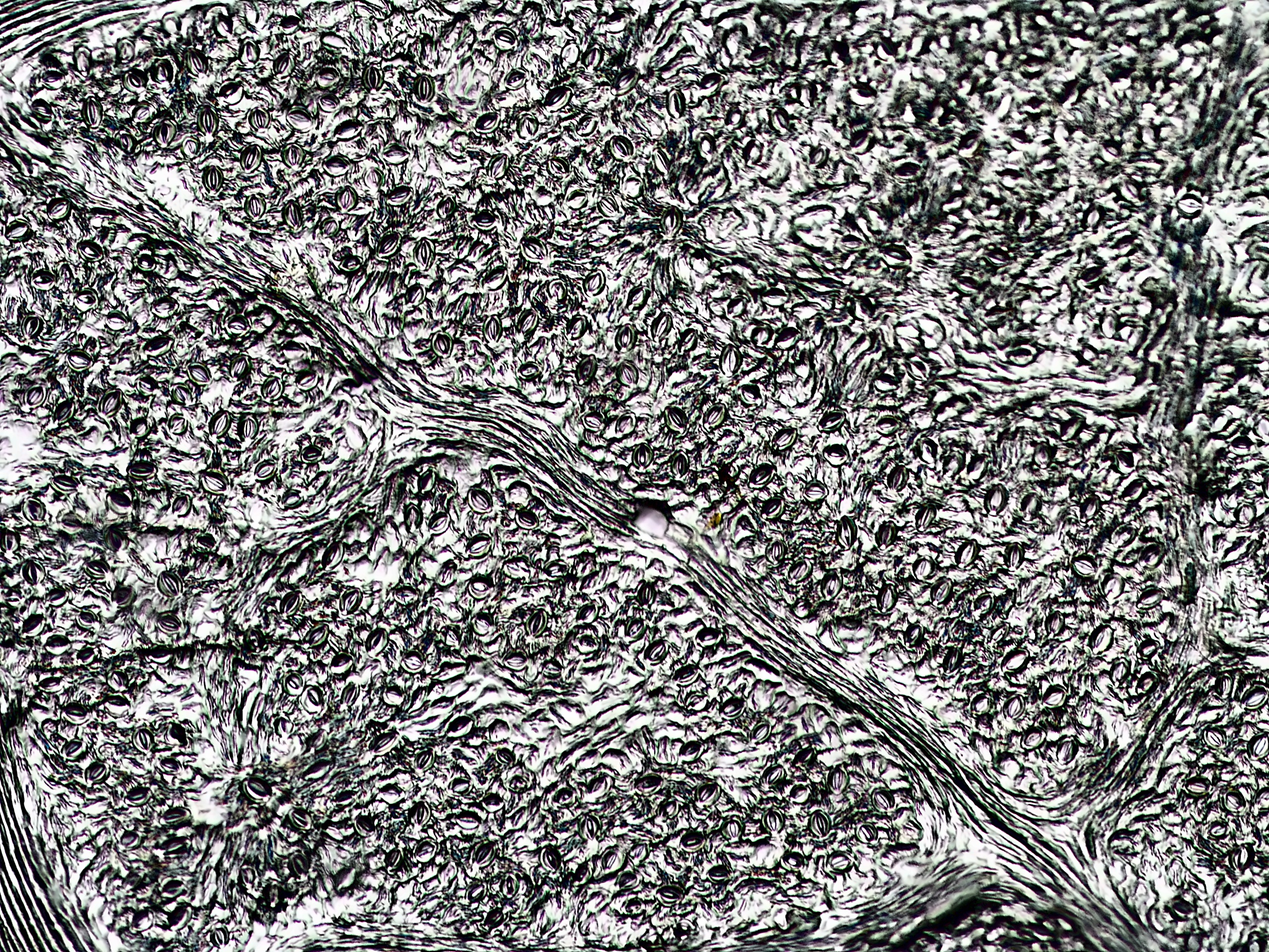stomata: (243, 777, 274, 804), (199, 469, 230, 496), (367, 730, 399, 755), (880, 245, 913, 269), (837, 514, 859, 550), (1090, 624, 1115, 655), (322, 539, 345, 572), (81, 95, 102, 131), (469, 839, 496, 866), (612, 66, 637, 95), (154, 119, 178, 149), (821, 568, 844, 599), (287, 105, 314, 131), (157, 569, 183, 596), (217, 79, 245, 104), (544, 86, 572, 111), (412, 837, 440, 862), (524, 609, 549, 637), (75, 239, 104, 263), (99, 388, 122, 418), (340, 586, 363, 616), (366, 626, 388, 657), (609, 134, 635, 160), (905, 355, 931, 381), (771, 426, 798, 451), (1240, 685, 1267, 710), (322, 154, 350, 178), (615, 323, 636, 355), (1176, 193, 1204, 217), (207, 408, 231, 436), (146, 645, 178, 666), (444, 715, 472, 739), (956, 538, 979, 567), (1020, 491, 1043, 520), (38, 71, 71, 91), (414, 238, 435, 269), (987, 484, 1008, 515), (604, 9, 630, 34), (377, 232, 402, 258), (955, 272, 981, 297), (467, 487, 492, 513), (873, 522, 897, 549), (1100, 572, 1124, 599), (871, 787, 895, 814), (650, 312, 673, 340), (1098, 310, 1121, 338), (304, 758, 332, 781), (720, 344, 740, 376), (1082, 201, 1104, 230), (241, 144, 262, 174), (1044, 609, 1065, 639), (1064, 28, 1094, 49), (278, 592, 303, 617), (468, 575, 494, 599), (282, 142, 305, 169), (432, 330, 455, 357), (803, 480, 830, 503), (656, 883, 683, 906), (808, 810, 831, 837), (107, 489, 134, 512), (464, 533, 491, 556), (1006, 343, 1034, 365), (888, 464, 910, 492), (1230, 843, 1252, 871), (363, 64, 384, 93), (931, 576, 952, 605), (143, 336, 172, 357), (577, 354, 596, 386), (205, 164, 225, 194), (283, 199, 303, 229), (521, 238, 546, 262), (1136, 588, 1166, 608), (1060, 416, 1084, 441), (23, 614, 48, 638), (245, 624, 265, 654), (582, 270, 605, 296), (665, 406, 688, 432), (749, 465, 775, 488), (1013, 205, 1036, 231), (22, 497, 45, 523), (104, 527, 127, 553), (915, 505, 937, 532), (185, 363, 212, 385), (158, 614, 185, 636), (678, 740, 705, 762), (73, 47, 94, 75), (1248, 733, 1269, 761), (413, 76, 433, 105), (828, 765, 848, 794), (271, 53, 295, 77), (574, 113, 598, 137), (786, 558, 810, 582), (600, 847, 624, 871), (631, 443, 654, 468), (19, 313, 42, 338), (68, 349, 93, 372), (22, 385, 47, 408), (23, 558, 46, 583), (166, 903, 189, 928), (760, 810, 783, 835), (304, 623, 329, 646), (403, 650, 426, 675), (335, 185, 357, 211), (615, 361, 637, 387), (848, 83, 874, 105), (614, 870, 640, 892), (694, 782, 720, 804), (504, 556, 530, 578), (187, 46, 206, 76), (662, 205, 681, 235), (879, 583, 898, 613), (667, 89, 687, 117), (817, 413, 845, 433), (1058, 737, 1078, 765), (1111, 657, 1131, 685), (1183, 776, 1211, 796), (124, 786, 152, 806), (634, 774, 662, 794), (199, 105, 217, 136), (150, 58, 173, 82), (699, 72, 723, 95), (1071, 555, 1095, 578), (1141, 542, 1164, 566), (1121, 479, 1145, 502), (913, 556, 937, 579), (971, 591, 994, 615), (1122, 178, 1145, 202), (32, 268, 55, 292), (227, 314, 251, 337), (720, 696, 744, 719), (893, 161, 922, 180), (1005, 541, 1024, 570), (244, 193, 266, 218), (519, 310, 541, 335), (703, 403, 725, 428), (1004, 648, 1026, 673), (6, 220, 31, 242), (52, 399, 74, 424), (254, 460, 279, 482), (673, 663, 698, 685), (958, 133, 984, 154), (64, 702, 90, 723), (105, 695, 131, 716), (303, 687, 324, 713), (826, 852, 852, 873), (262, 375, 283, 401), (329, 653, 355, 674), (342, 680, 363, 706), (942, 646, 962, 673), (151, 297, 178, 317), (160, 807, 190, 825), (240, 416, 260, 443), (126, 461, 156, 479), (83, 558, 111, 577), (418, 466, 437, 494), (849, 130, 872, 153), (677, 290, 700, 313), (74, 288, 97, 311), (761, 764, 784, 787), (486, 153, 508, 177), (484, 267, 508, 289), (824, 445, 848, 467), (87, 761, 109, 785), (165, 722, 187, 746), (130, 908, 152, 932), (1003, 695, 1024, 720), (1042, 687, 1067, 708), (75, 608, 100, 629), (630, 840, 651, 865), (300, 445, 325, 466), (1170, 900, 1199, 918), (32, 96, 52, 122), (117, 128, 137, 154), (567, 314, 587, 340), (762, 287, 788, 307), (1033, 441, 1053, 467), (1212, 673, 1232, 699), (408, 801, 428, 827), (670, 451, 689, 478), (969, 452, 988, 479), (49, 474, 76, 493), (695, 627, 722, 646), (123, 69, 145, 92), (494, 27, 516, 50), (505, 67, 527, 90), (1113, 524, 1136, 546), (1114, 449, 1137, 471), (63, 738, 86, 760), (448, 775, 471, 797), (855, 823, 878, 845), (749, 722, 771, 745), (644, 641, 667, 663), (238, 39, 259, 63), (878, 38, 899, 62), (986, 245, 1010, 266), (1230, 434, 1254, 455), (1203, 726, 1224, 750), (540, 846, 561, 870), (438, 559, 456, 587), (388, 185, 413, 205), (876, 416, 901, 436), (1081, 494, 1101, 519), (996, 166, 1021, 186), (133, 727, 153, 752), (455, 811, 480, 831), (475, 113, 501, 132), (291, 851, 309, 878), (333, 789, 360, 807), (502, 871, 520, 898), (762, 497, 784, 519), (987, 623, 1009, 645), (1023, 728, 1045, 750), (112, 584, 134, 606), (282, 487, 304, 509), (437, 196, 458, 219), (853, 296, 874, 319), (59, 512, 82, 533), (305, 729, 328, 750), (414, 750, 435, 773), (580, 814, 601, 837), (481, 793, 504, 814), (116, 39, 136, 63), (743, 139, 763, 163), (766, 538, 786, 562), (438, 859, 458, 883), (231, 354, 251, 378), (483, 316, 500, 344), (38, 676, 66, 693), (250, 105, 269, 130), (519, 113, 538, 138), (472, 211, 497, 230), (771, 107, 790, 132), (905, 623, 924, 648), (1, 588, 26, 607), (723, 816, 742, 841), (681, 329, 699, 355), (941, 193, 967, 211), (159, 756, 185, 774), (1017, 97, 1046, 113), (749, 46, 771, 67), (1080, 265, 1102, 286), (971, 693, 992, 715), (48, 196, 69, 218), (168, 413, 189, 435), (685, 690, 707, 711), (579, 571, 600, 593), (616, 412, 636, 435), (172, 384, 192, 407), (108, 669, 128, 692), (587, 776, 610, 796), (545, 558, 568, 578), (652, 147, 669, 174), (637, 581, 654, 608), (583, 47, 602, 71), (385, 148, 409, 167), (1098, 139, 1122, 158), (981, 199, 1005, 218), (380, 784, 404, 803), (393, 586, 417, 605), (576, 635, 600, 654), (406, 281, 424, 306), (874, 374, 899, 392), (46, 636, 71, 654), (561, 42, 578, 68), (403, 503, 420, 529), (808, 146, 829, 167), (1219, 487, 1240, 508), (471, 613, 492, 634), (428, 513, 449, 534), (623, 176, 643, 198), (518, 361, 540, 381), (584, 411, 606, 431), (210, 925, 230, 947), (464, 883, 486, 903), (484, 907, 504, 929), (782, 852, 804, 872), (297, 370, 317, 392), (553, 787, 575, 807), (627, 285, 646, 308), (1137, 672, 1156, 695), (1137, 639, 1160, 658), (1009, 129, 1032, 148), (1023, 54, 1046, 73), (239, 864, 258, 887), (172, 492, 191, 515), (338, 254, 362, 272), (775, 330, 799, 348), (699, 133, 717, 157), (919, 437, 937, 461), (276, 714, 294, 738), (680, 834, 704, 852), (336, 122, 361, 139), (133, 103, 153, 124), (549, 156, 569, 177), (599, 196, 619, 217), (741, 383, 761, 404), (291, 808, 311, 829), (382, 848, 402, 869), (1225, 790, 1244, 812), (0, 530, 19, 552), (515, 509, 537, 528), (625, 616, 644, 638), (726, 105, 744, 128), (621, 897, 645, 914), (503, 653, 527, 670), (180, 138, 200, 158), (788, 783, 808, 803), (106, 311, 127, 330), (357, 815, 376, 836), (657, 800, 678, 819), (317, 68, 339, 86), (1237, 502, 1255, 524), (118, 831, 140, 849), (282, 340, 304, 358), (365, 166, 382, 189), (708, 865, 731, 882), (130, 418, 150, 437), (283, 673, 302, 693), (495, 749, 516, 767), (509, 805, 527, 826), (549, 278, 566, 300), (45, 588, 67, 605), (509, 776, 531, 793), (162, 880, 185, 896), (320, 219, 339, 238), (727, 297, 746, 316), (752, 326, 771, 345), (840, 235, 864, 250), (1254, 787, 1269, 811), (196, 533, 216, 551), (568, 189, 586, 208), (577, 605, 596, 623), (279, 15, 299, 32), (384, 685, 401, 705), (319, 96, 341, 111), (137, 252, 155, 270), (541, 660, 560, 677), (139, 376, 156, 394), (215, 16, 231, 35), (1209, 822, 1228, 838), (794, 750, 813, 766), (78, 648, 96, 664), (441, 629, 459, 645)
